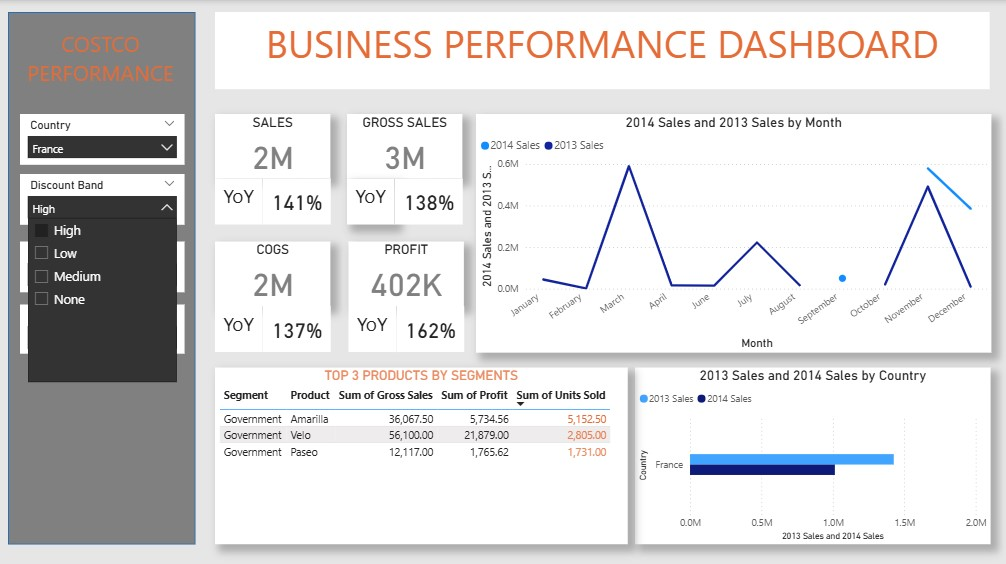

Layout of this report page (visuals, bound fields, positions):
{"tool":"powerbi","page":{"name":"Page 1","canvas":[1280,720],"ordinal":0},"visuals":[{"type":"shape","box":[15.1,15.1,236.2,670.9],"z":0},{"type":"textbox","box":[276.9,15.9,975.9,97.6],"z":1000},{"type":"card","title":"SALES","fields":{"Values":["Sum(financials. Sales)"]},"box":[276.9,143.4,145.4,81.7],"z":2000},{"type":"card","title":"PROFIT","fields":{"Values":["Sum(financials.Profit)"]},"box":[444.2,304.7,145.4,81.7],"z":3000},{"type":"card","title":"COGS","fields":{"Values":["Sum(financials.COGS)"]},"box":[276.9,304.7,145.4,81.7],"z":4000},{"type":"card","title":"GROSS SALES","fields":{"Values":["Sum(financials.Gross Sales)"]},"box":[442.2,143.4,145.4,81.7],"z":5000},{"type":"card","title":"SALES","fields":{"Values":["financials. Sales YoY%"]},"box":[336.6,225.1,85.6,57.8],"z":6000},{"type":"textbox","box":[276.9,225.1,59.8,57.8],"z":7000},{"type":"textbox","box":[276.9,386.4,59.8,57.8],"z":8000},{"type":"textbox","box":[444.2,386.4,59.8,57.8],"z":9000},{"type":"textbox","box":[442.2,225.1,59.8,57.8],"z":10000},{"type":"card","title":"SALES","fields":{"Values":["financials.COGS YoY%"]},"box":[336.6,386.4,85.6,57.8],"z":11000},{"type":"card","title":"SALES","fields":{"Values":["financials.Profit YoY%"]},"box":[503.9,386.4,85.6,57.8],"z":12000},{"type":"card","title":"SALES","fields":{"Values":["financials.Gross Sales YoY%"]},"box":[501.9,225.1,85.6,57.8],"z":13000},{"type":"lineChart","fields":{"Category":["financials.Date.Variation.Date Hierarchy.Month"],"Y":["financials.2014 Sales","financials.2013 Sales"]},"box":[605.5,143.4,649.3,300.8],"z":14000},{"type":"clusteredBarChart","fields":{"Category":["financials.Country"],"Y":["financials.2013 Sales","financials.2014 Sales"]},"box":[805,463,447.9,223],"z":15000},{"type":"tableEx","title":"TOP 3 PRODUCTS BY SEGMENTS","fields":{"Values":["financials.Segment","financials.Product","Sum(financials.Gross Sales)","Sum(financials.Profit)","Sum(financials.Units Sold)"]},"box":[275.9,463,519.7,223],"z":16000},{"type":"slicer","fields":{"Values":["financials.Country"]},"box":[29.9,143.4,207.1,63.7],"z":17000},{"type":"slicer","fields":{"Values":["financials.Discount Band"]},"box":[29.9,219.1,207.1,63.7],"z":18000},{"type":"slicer","fields":{"Values":["financials.Segment"]},"box":[29.9,384.4,207.1,61.7],"z":19000},{"type":"slicer","fields":{"Values":["financials.Product"]},"box":[29.9,304.7,207.1,63.7],"z":20000},{"type":"textbox","box":[13.9,31.9,237,97.6],"z":21000}]}

Visuals, with their boxes in screenshot pixels (x1, y1, x2, y2):
shape: [4, 7, 193, 543]
textbox: [214, 7, 994, 86]
"SALES" card: [214, 109, 330, 175]
"PROFIT" card: [347, 238, 464, 304]
"COGS" card: [214, 238, 330, 304]
"GROSS SALES" card: [346, 109, 462, 175]
"SALES" card: [261, 175, 330, 221]
textbox: [214, 175, 261, 221]
textbox: [214, 304, 261, 350]
textbox: [347, 304, 395, 350]
textbox: [346, 175, 394, 221]
"SALES" card: [261, 304, 330, 350]
"SALES" card: [395, 304, 464, 350]
"SALES" card: [394, 175, 462, 221]
lineChart - financials.Date.Variation.Date Hierarchy.Month x financials.2014 Sales: [476, 109, 996, 350]
clusteredBarChart - financials.Country x financials.2013 Sales: [636, 365, 994, 543]
"TOP 3 PRODUCTS BY SEGMENTS" tableEx: [213, 365, 628, 543]
slicer - financials.Country: [16, 109, 182, 160]
slicer - financials.Discount Band: [16, 170, 182, 221]
slicer - financials.Segment: [16, 302, 182, 352]
slicer - financials.Product: [16, 238, 182, 289]
textbox: [3, 20, 193, 98]
